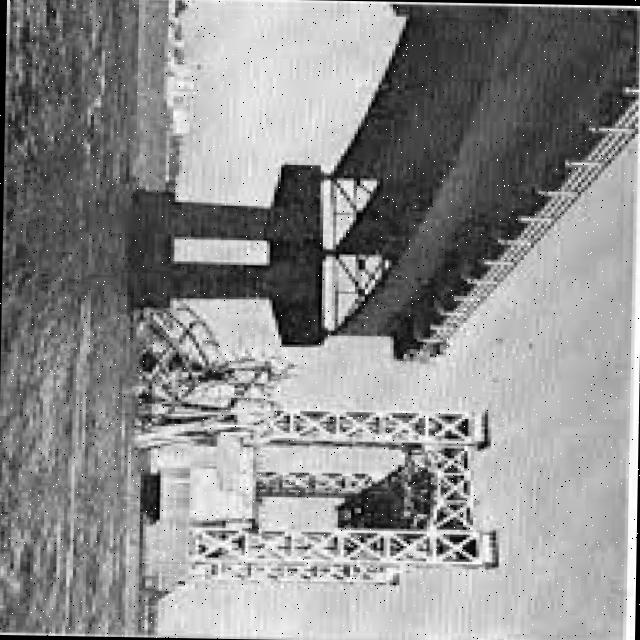bridge collapse: (66, 80, 640, 630)
